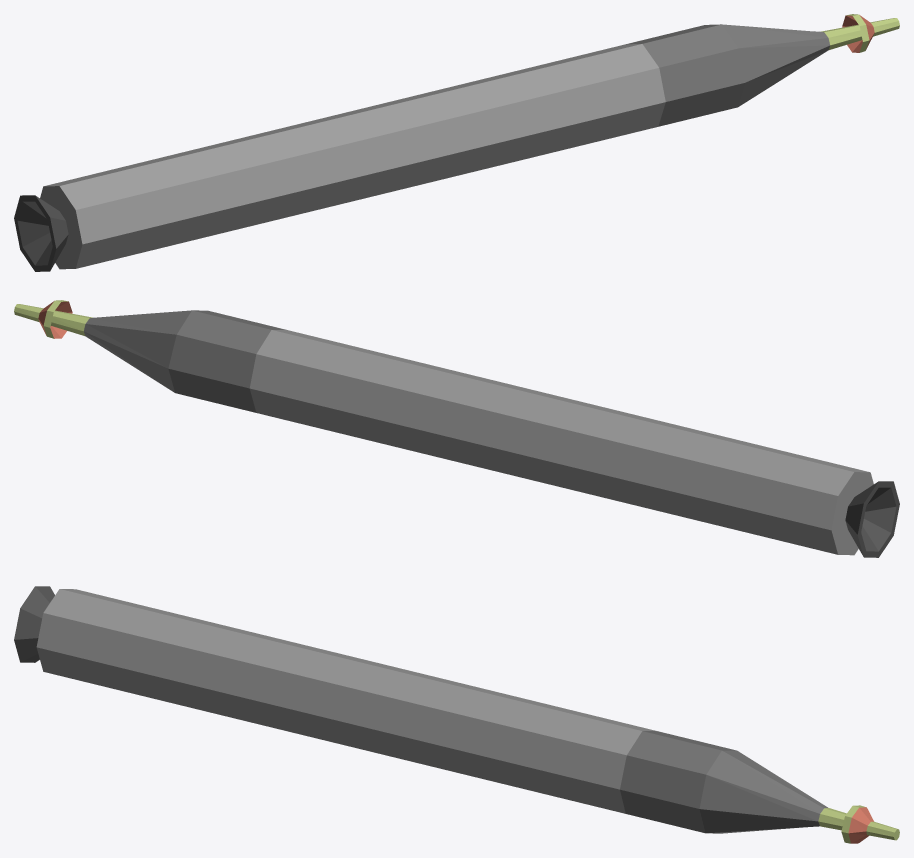
The model's file is cartridges1.fbx.
3 renders of one model, top to bottom at view 1: azimuth 30°, elevation 25°; view 2: azimuth 150°, elevation 25°; view 3: azimuth 330°, elevation 25°, orthographic.
Visible parts, largest first — view 1: Cylinder_2; view 2: Cylinder_2; view 3: Cylinder_2.
Part boxes in pixels (left/top/right/bottom): Cylinder_2: left=14, top=14, right=899, bottom=271; Cylinder_2: left=14, top=300, right=899, bottom=557; Cylinder_2: left=14, top=586, right=899, bottom=843.
Size of the model in its own units: 196 by 18.11 by 18.11.
